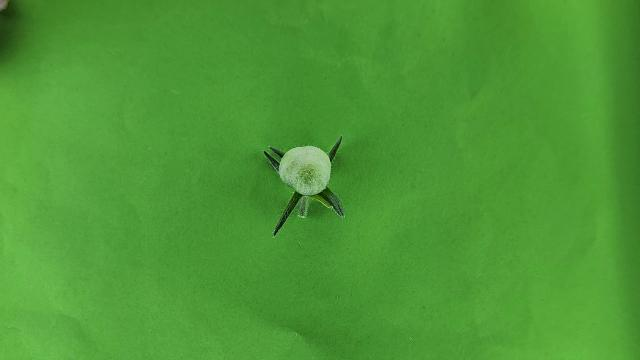Fruit Maturation: (278, 145, 332, 195)
